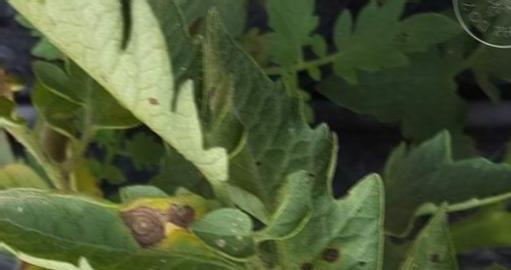Tomato Early blight leaf: (0, 176, 291, 270)
Tomato leaf: (368, 123, 511, 244), (325, 0, 467, 94)
